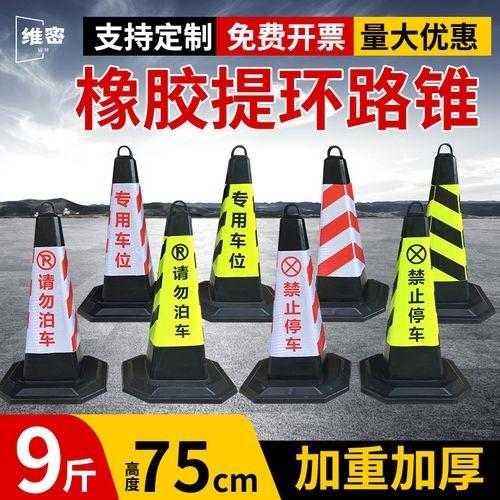cone_barrel: (132, 197, 218, 393), (254, 198, 332, 394), (8, 206, 89, 393), (374, 200, 453, 389), (410, 144, 481, 331), (201, 146, 271, 312), (89, 148, 156, 316), (309, 148, 374, 306)
